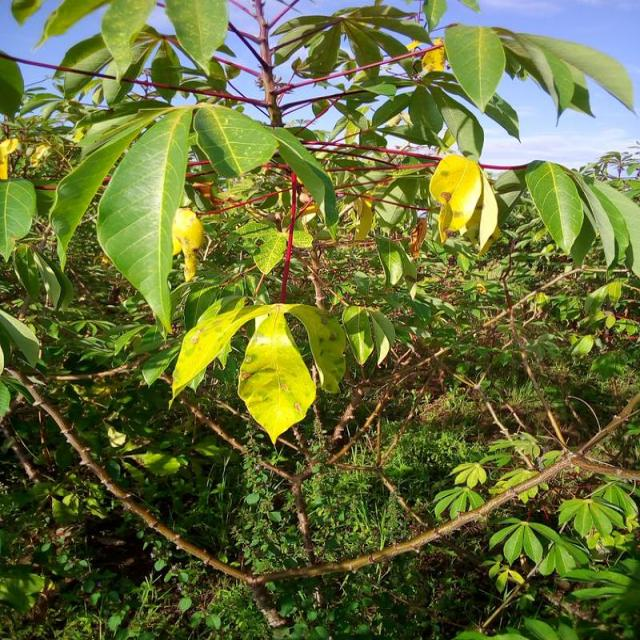cassava leaf: (169, 296, 346, 445), (95, 104, 193, 337), (236, 305, 317, 446), (443, 22, 506, 113)
